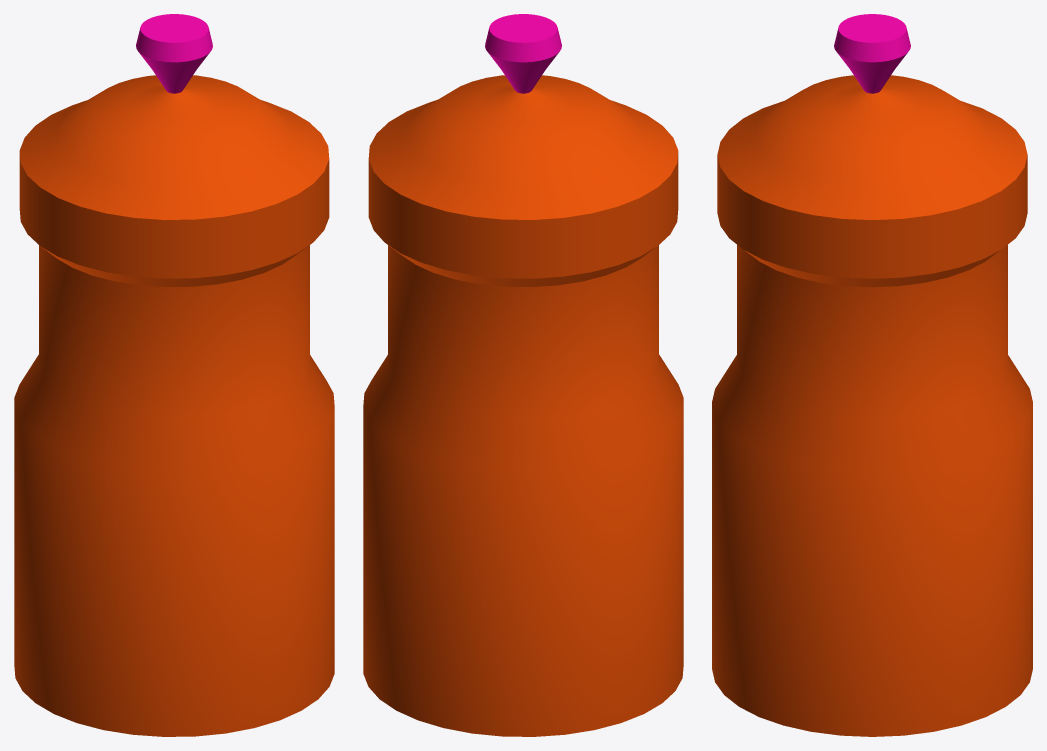
The model's file is bottle22.glb.
3 renders of one model, left to right at view 1: azimuth 30°, elevation 25°; view 2: azimuth 150°, elevation 25°; view 3: azimuth 270°, elevation 25°, orthographic.
Visible parts, largest first — view 1: Bottle22; view 2: Bottle22; view 3: Bottle22.
Boxes of the visible parts, x1,y1,x2,y2 form: Bottle22: [14, 14, 334, 736]; Bottle22: [363, 14, 683, 736]; Bottle22: [712, 14, 1032, 736].
Size of the model in its own units: 1.1 by 2.43 by 1.1.
